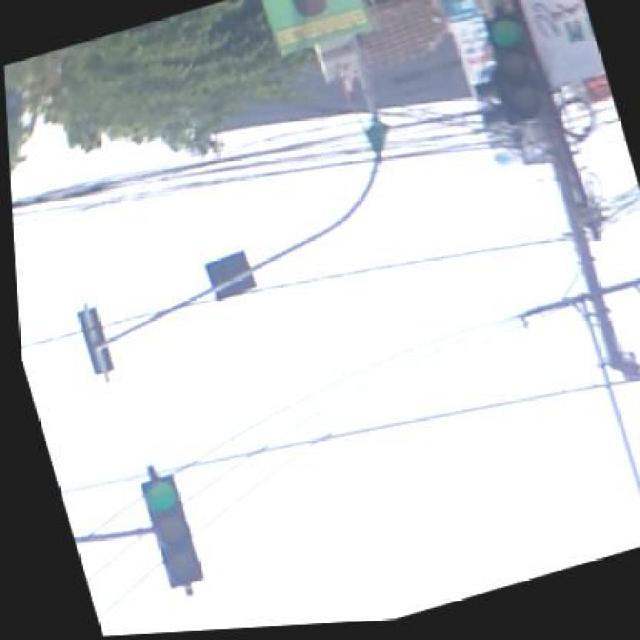green_light: (479, 13, 550, 135), (130, 474, 201, 594)
